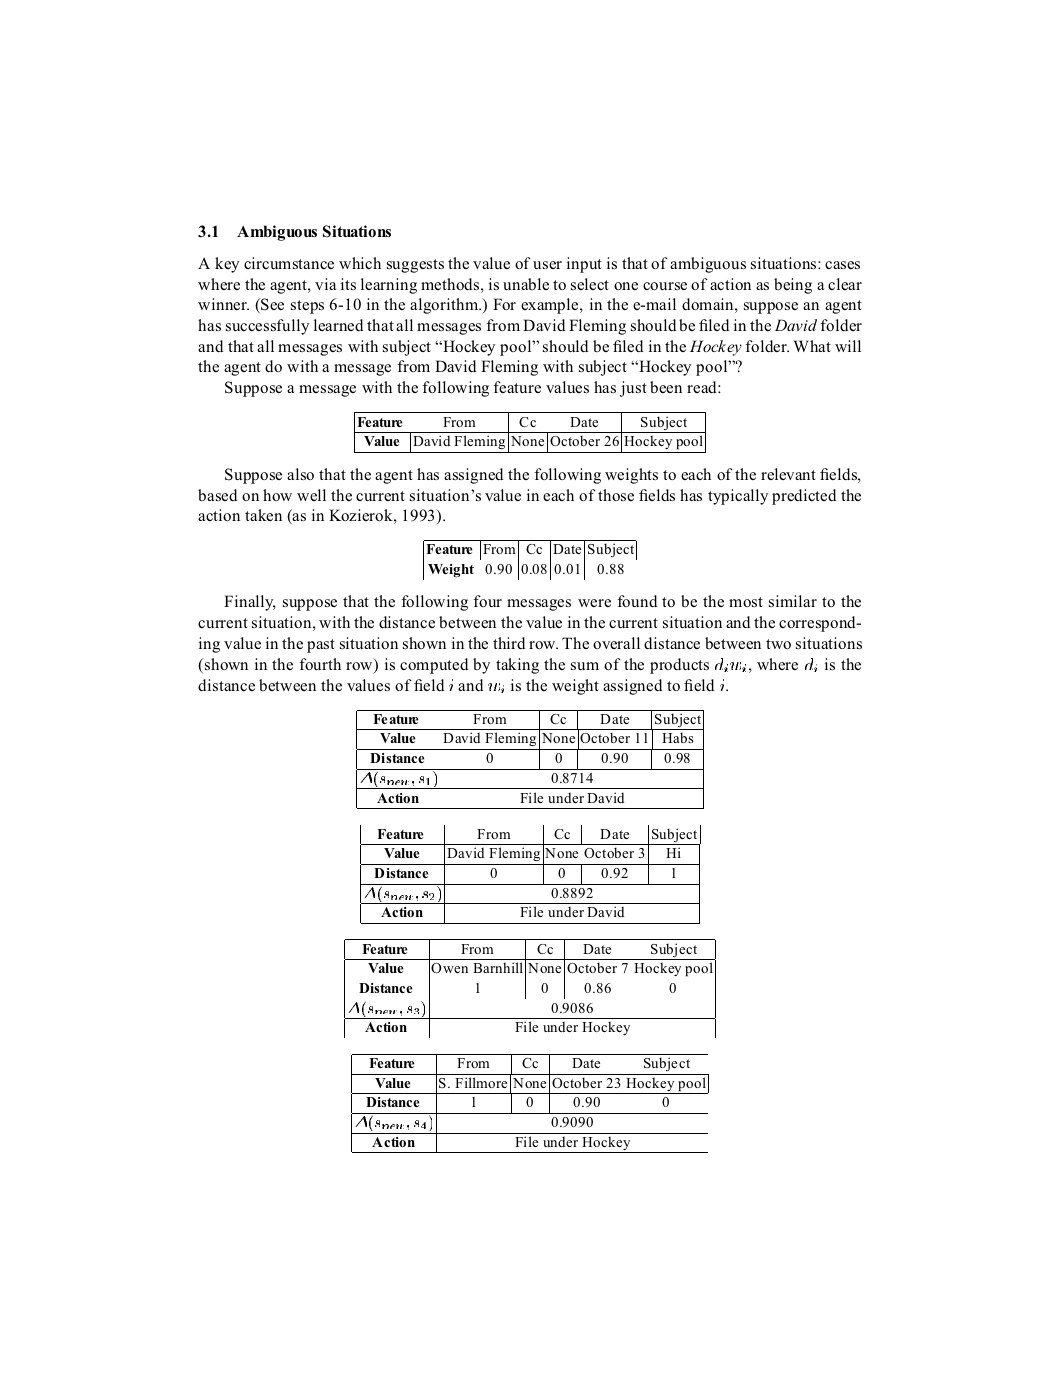Table: (344, 938, 716, 1038), (351, 1052, 708, 1153), (356, 709, 703, 809), (360, 824, 700, 924), (354, 411, 705, 452), (424, 539, 636, 580)
